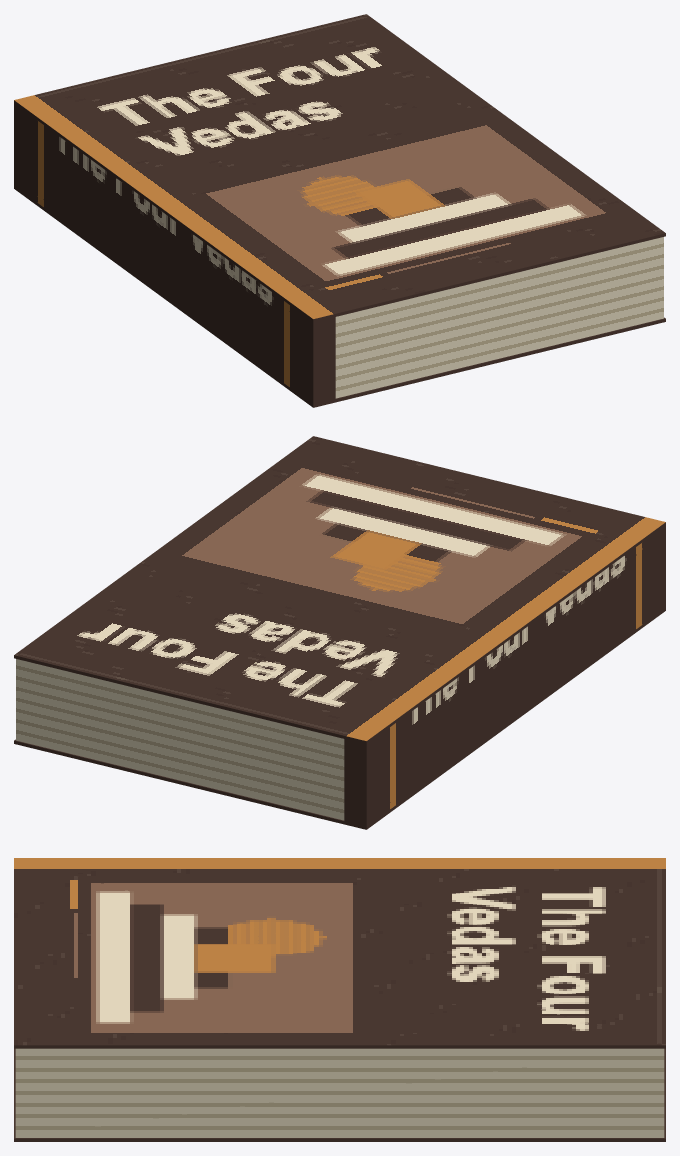
The model's file is holybook_vedas.glb.
3 views of the same model, one above another, from view 1: azimuth 30°, elevation 25°; view 2: azimuth 150°, elevation 25°; view 3: azimuth 270°, elevation 25° (orthographic). The views are drawn at different scales.
Visible parts, largest first — view 1: block_front cover, block_page block, block_spine, block_back cover; view 2: block_front cover, block_page block, block_spine, block_back cover; view 3: block_front cover, block_page block, block_back cover.
Part boxes in pixels (x1,y1,x2,y2): block_front cover: [14, 14, 665, 322]; block_page block: [335, 237, 663, 398]; block_spine: [14, 103, 335, 404]; block_back cover: [14, 186, 665, 407]; block_front cover: [14, 436, 665, 744]; block_page block: [16, 659, 344, 820]; block_spine: [344, 525, 665, 826]; block_back cover: [14, 608, 665, 829]; block_front cover: [14, 858, 665, 1048]; block_page block: [15, 1048, 664, 1137]; block_back cover: [14, 1048, 665, 1141].
Size of the model in its own units: 0.1414 by 0.034 by 0.208.
Materials: 1 (1 with a texture image).
